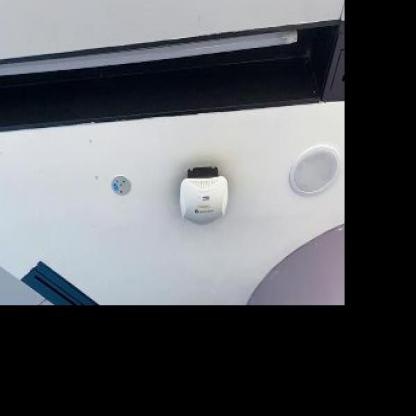light_off: (0, 0, 307, 124)
